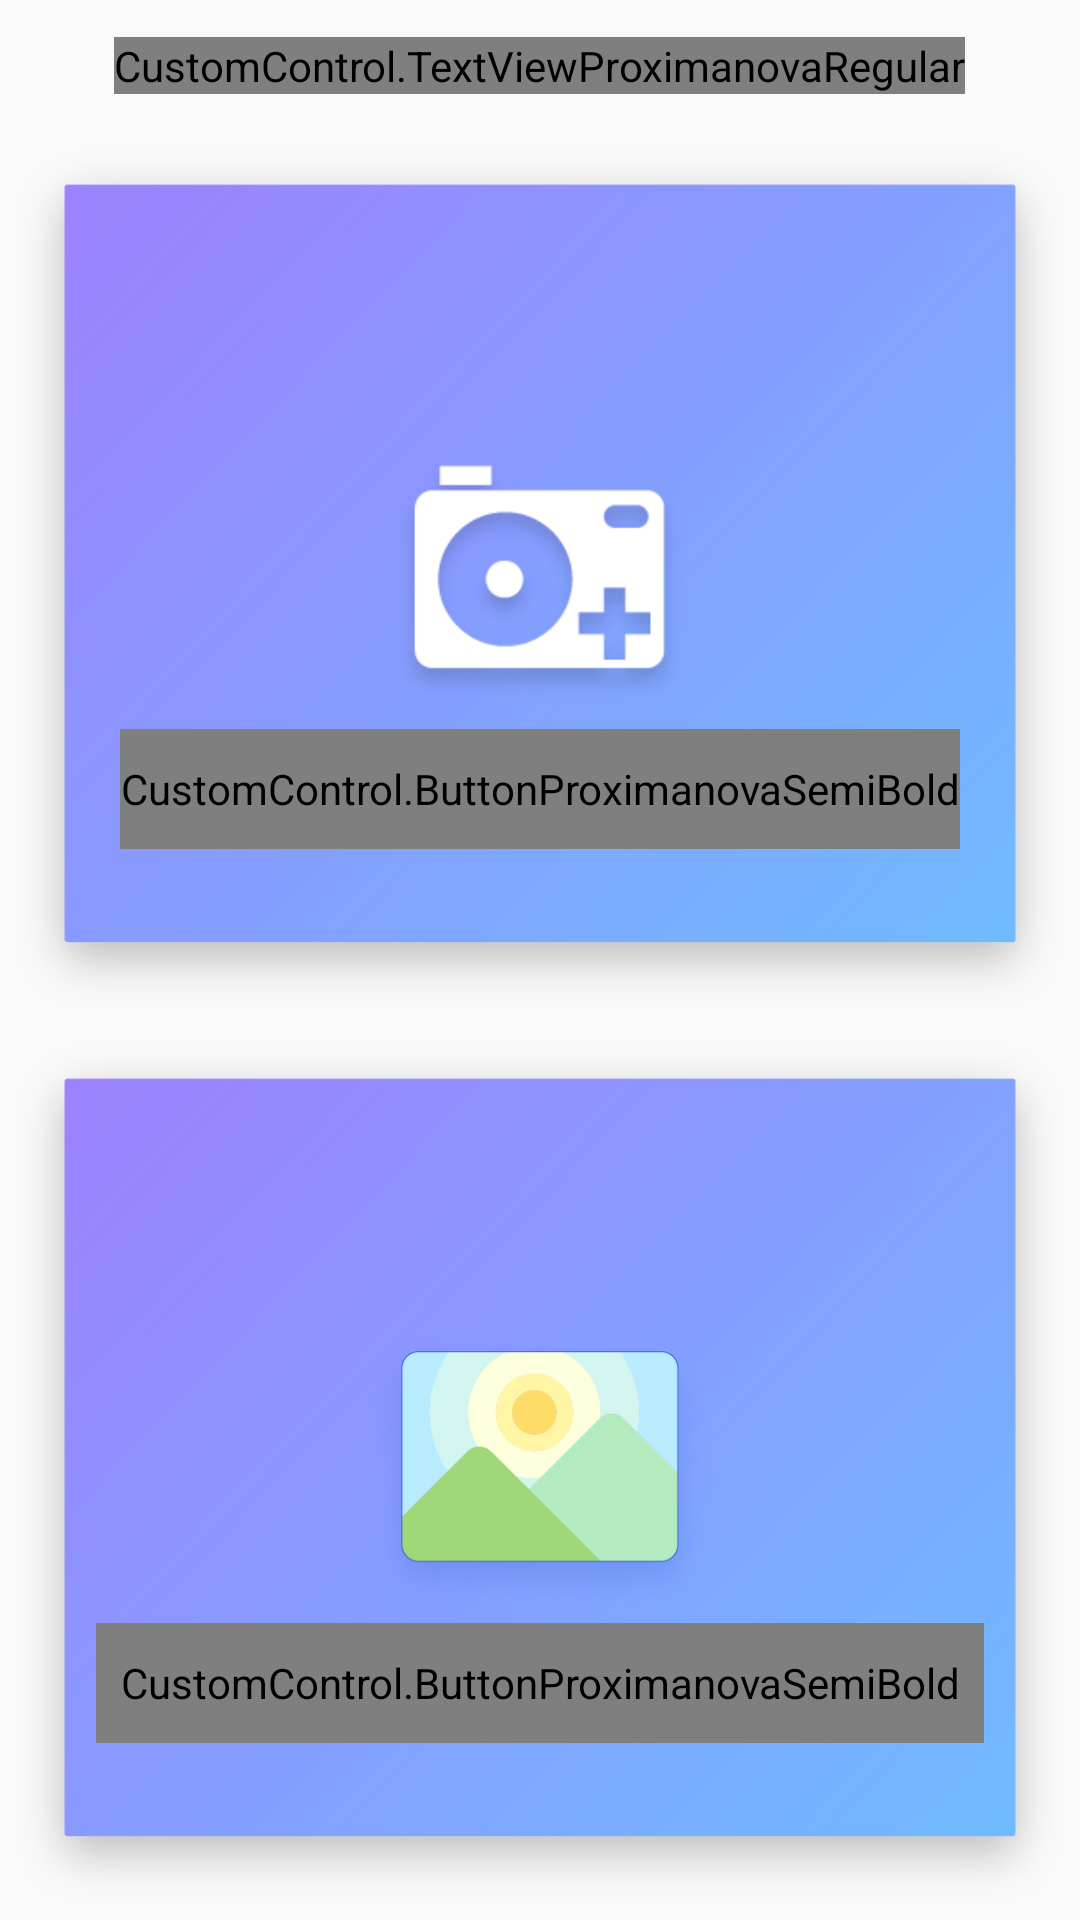

Icons on this 1080×1920 Android screen, each with its box as (x1, y1, x2, y2):
camera: (414, 465, 665, 678)
gallary upload: (401, 1351, 679, 1563)
